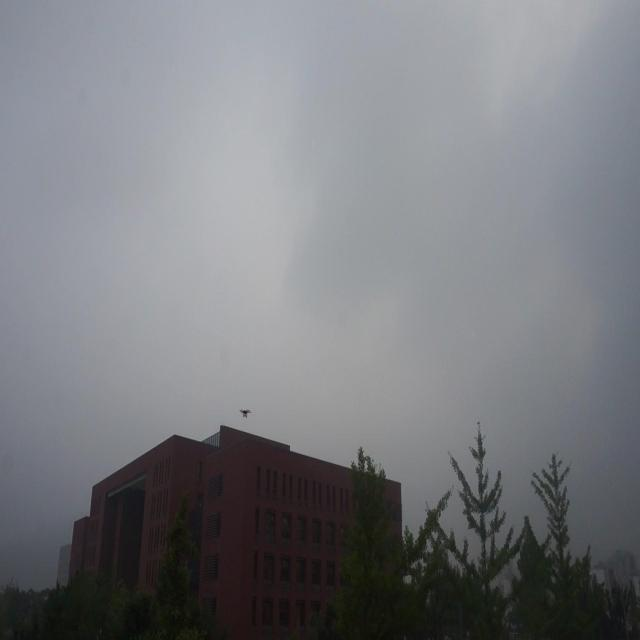drone: (238, 405, 250, 420)
